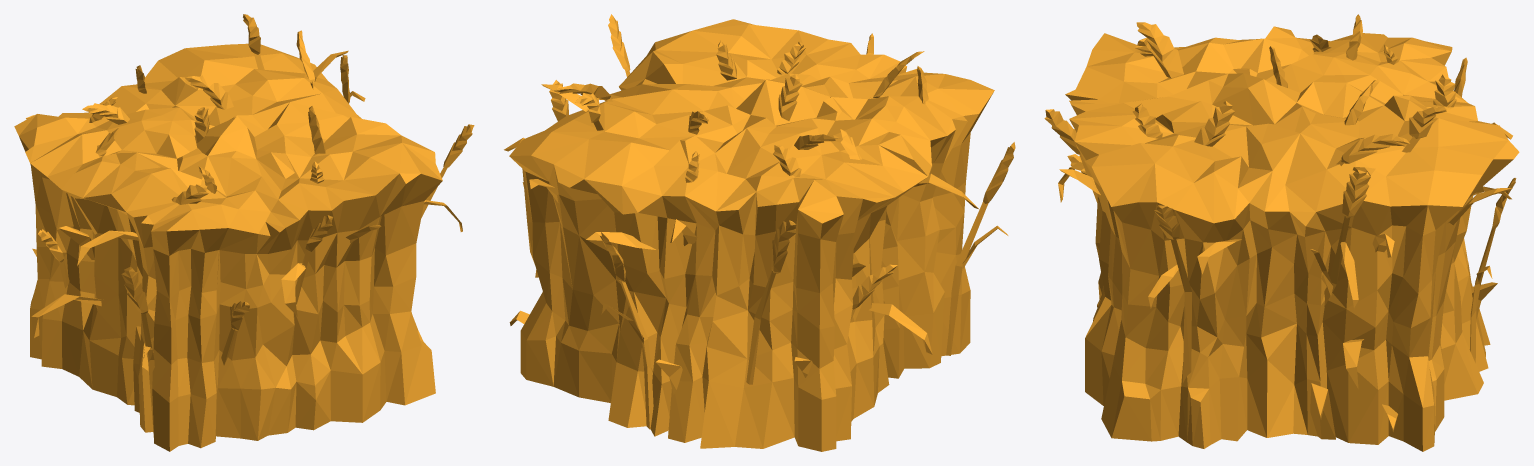
Rendered from SM_Wheat_Ripening_Square_1x1m_A.fbx.
3 renders of one model, left to right at view 1: azimuth 30°, elevation 25°; view 2: azimuth 150°, elevation 25°; view 3: azimuth 270°, elevation 25°, orthographic. The views are drawn at different scales.
Visible parts, largest first — view 1: wheat-ripening-square-1x1m-a; view 2: wheat-ripening-square-1x1m-a; view 3: wheat-ripening-square-1x1m-a.
Boxes of the visible parts, x1=… form: wheat-ripening-square-1x1m-a: x1=14, y1=14, x2=474, y2=451; wheat-ripening-square-1x1m-a: x1=504, y1=14, x2=1015, y2=451; wheat-ripening-square-1x1m-a: x1=1044, y1=14, x2=1519, y2=451.
Size of the model in its own units: 1.5 by 1.08 by 1.5.
